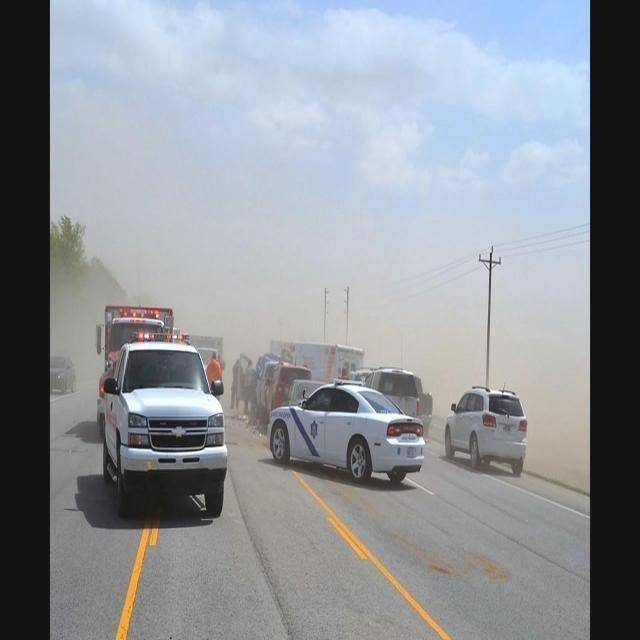Car: (102, 336, 229, 518), (266, 378, 426, 485), (441, 386, 529, 477), (362, 366, 432, 438), (262, 361, 312, 426), (50, 357, 76, 395)
